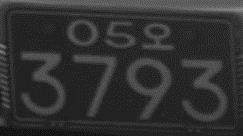0: (65, 17, 98, 47)
3: (179, 56, 228, 121), (19, 50, 66, 116)
5: (104, 19, 135, 49)
7: (72, 53, 117, 117)
9: (125, 56, 173, 121)
오: (140, 21, 175, 50)
